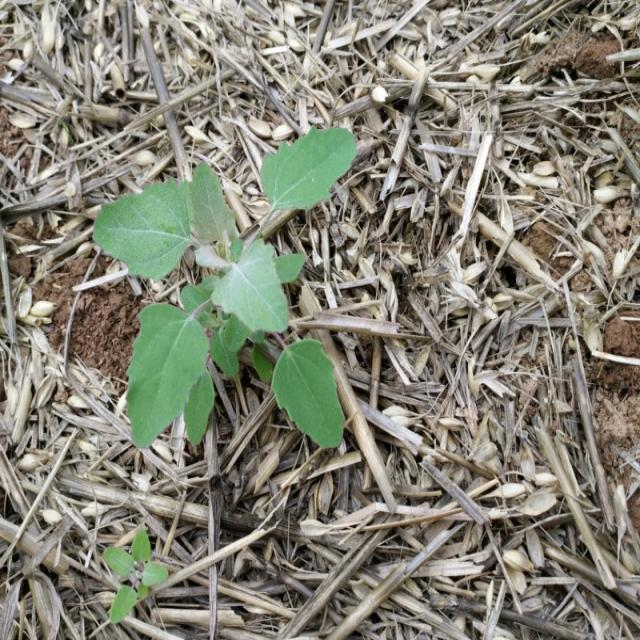ca: (95, 128, 358, 451)
